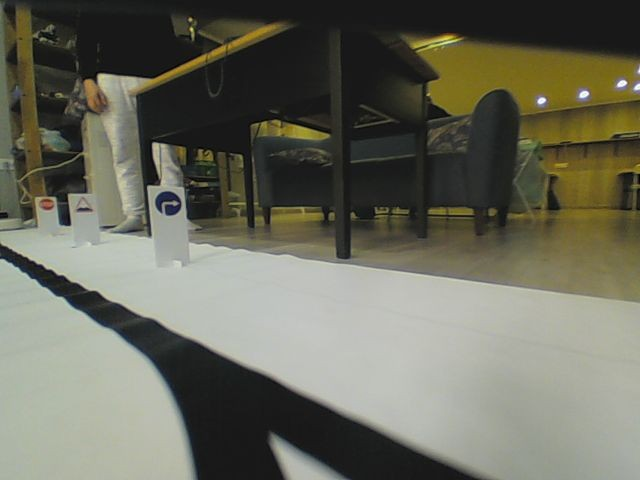Nerov: (73, 195, 92, 214)
Right: (156, 192, 182, 217)
Stop: (39, 198, 54, 212)
